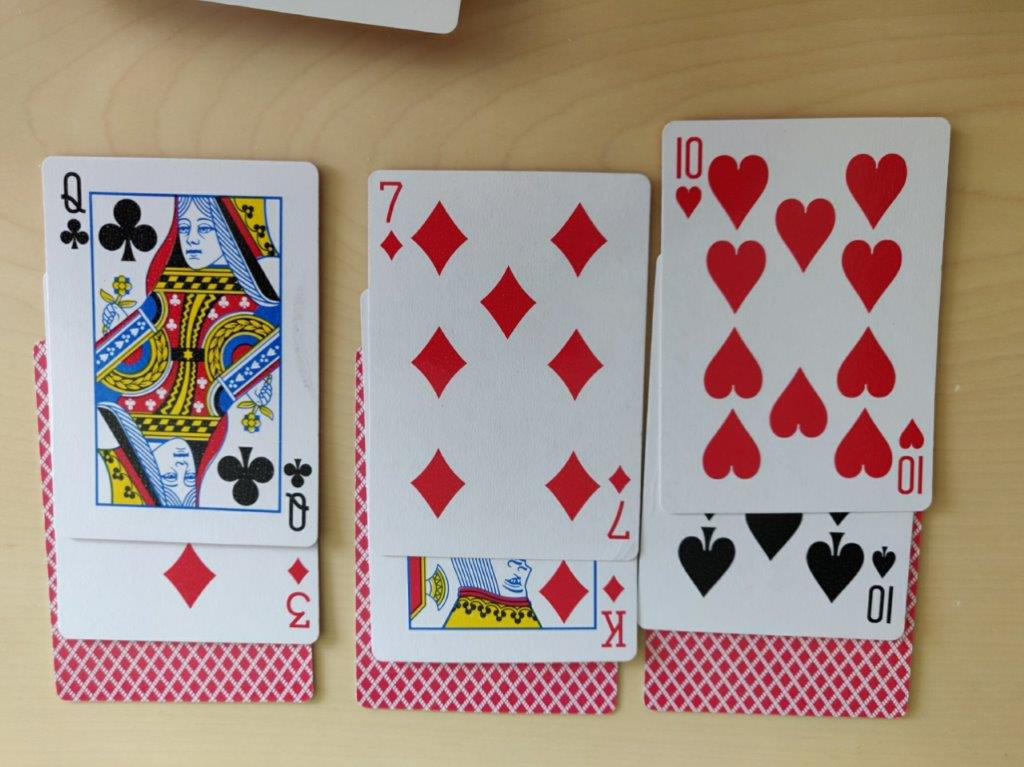10H: (668, 131, 708, 221)
7D: (372, 174, 408, 264)
QC: (52, 164, 93, 256)
